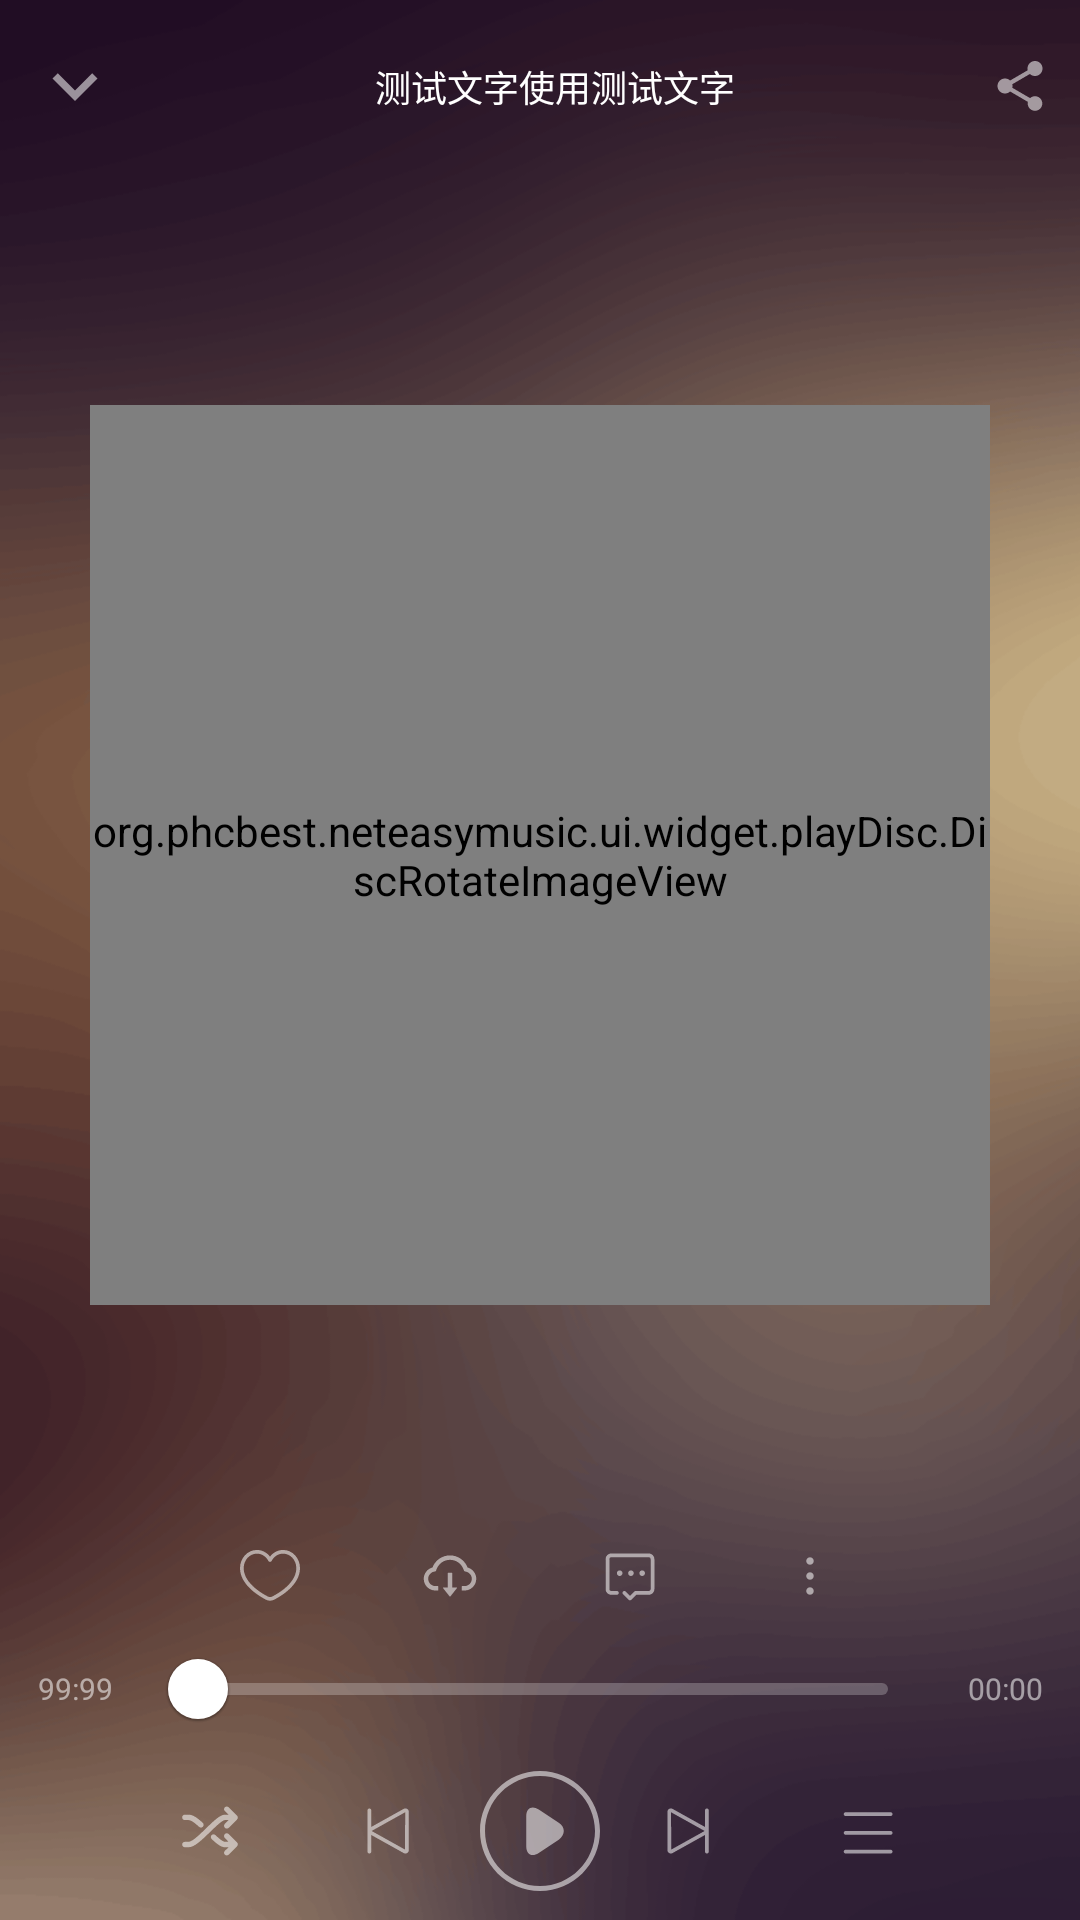

Named icons in this screenshot (1080px x 1920px) and their centers, [x,y]:
down key: [75,87]
play detail: [540,1831]
play detail comment: [630,1577]
play detail download: [450,1576]
play detail list: [868,1833]
play detail love: [270,1575]
play detail more: [810,1576]
play detail next: [688,1831]
play detail previous: [388,1831]
play detail random: [210,1831]
share: [1020,86]
